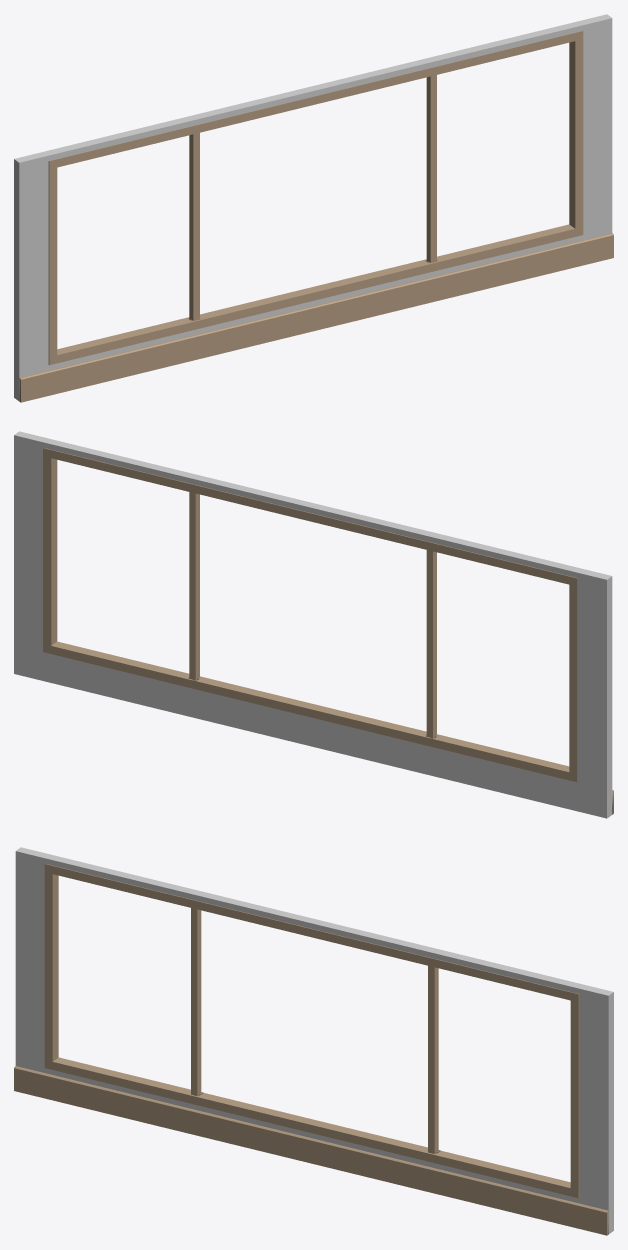
Rendered from House_Wall_Window.fbx.
3 views of the same model, one above another, from view 1: azimuth 30°, elevation 25°; view 2: azimuth 150°, elevation 25°; view 3: azimuth 330°, elevation 25° (orthographic).
Parts seen in each view (by area): view 1: WallFloor2_01__6_.008; view 2: WallFloor2_01__6_.008; view 3: WallFloor2_01__6_.008.
Boxes of the visible parts, x1=… form: WallFloor2_01__6_.008: x1=14, y1=14, x2=613, y2=402; WallFloor2_01__6_.008: x1=14, y1=431, x2=613, y2=818; WallFloor2_01__6_.008: x1=14, y1=847, x2=613, y2=1235.
Size of the model in its own units: 650 by 250 by 13.74.
